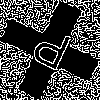P: (25, 25, 74, 81)
